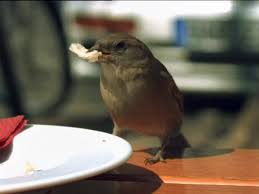hsparrow: (80, 33, 202, 165)
